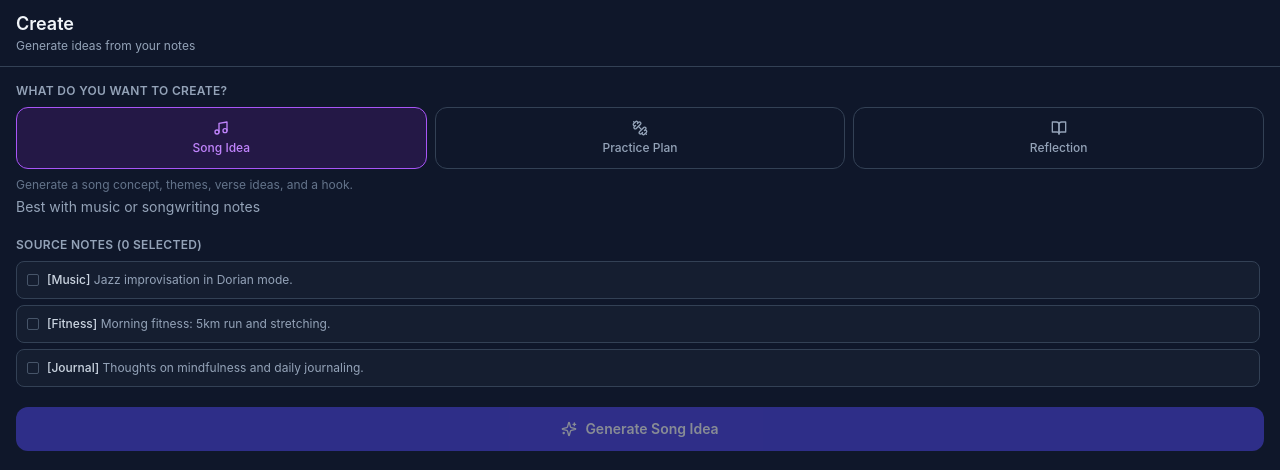
Test: CreatePage (Task 5.3) › mode switch resets selected notes
This screenshot has width=1280, height=470.
Click the button "[Music] Jazz improvisation in Dorian mode." at x=69, y=280, box [16, 261, 1260, 299]
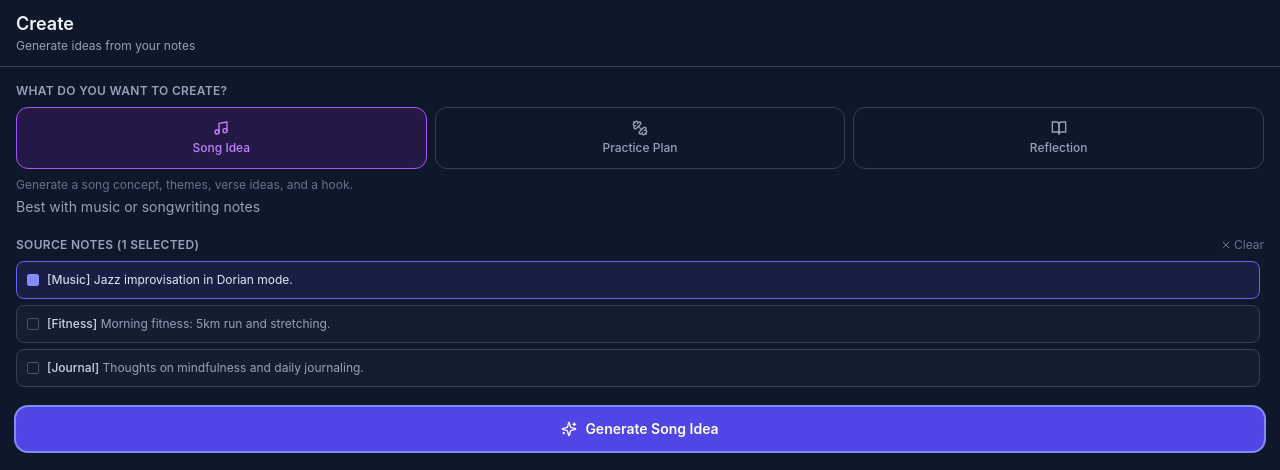
Check: the heading "Source Notes (1 selected)" is shown, box [16, 237, 199, 253]
// Switch mode
Click the button "Practice Plan" at x=640, y=138, box [435, 107, 845, 169]
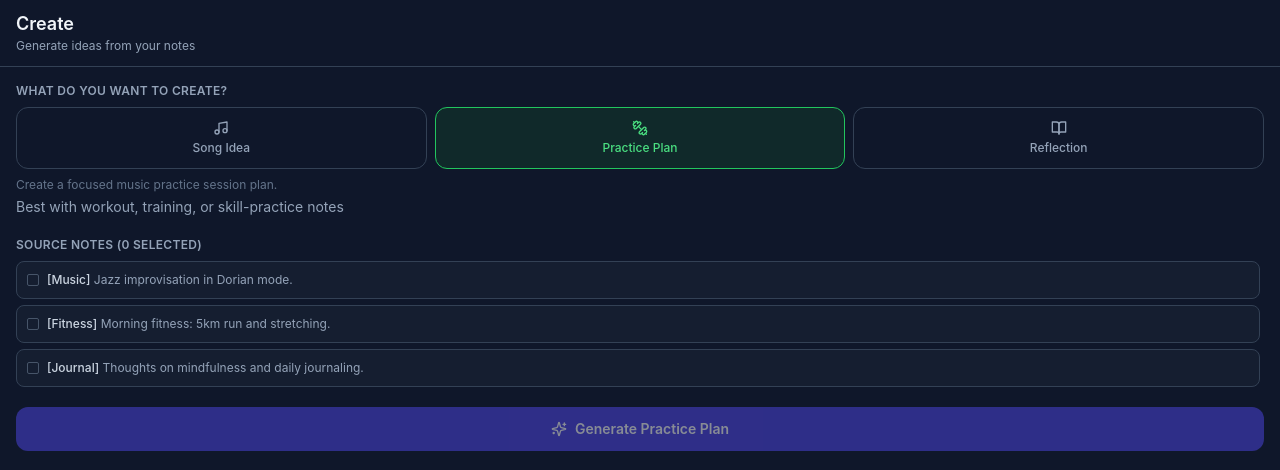
Check: the heading "Source Notes (0 selected)" is shown, box [16, 237, 202, 253]
